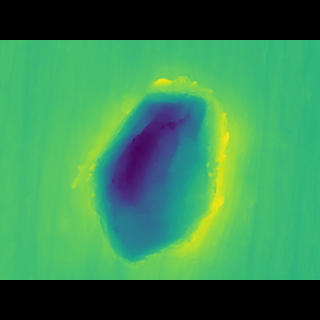Loch: (71, 82, 247, 249)
